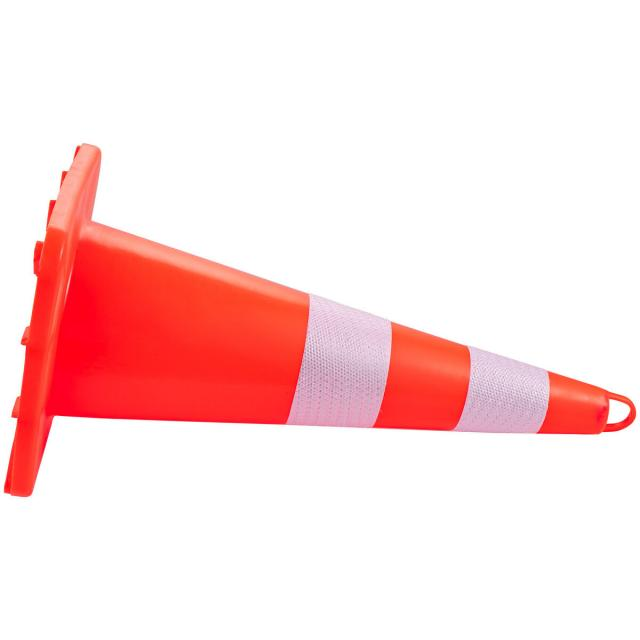Traffic-cone: (0, 131, 640, 539)
